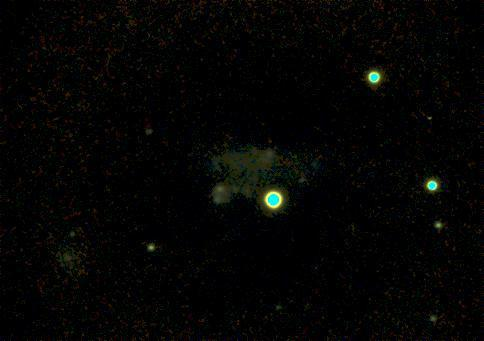star: (290, 169, 320, 199)
